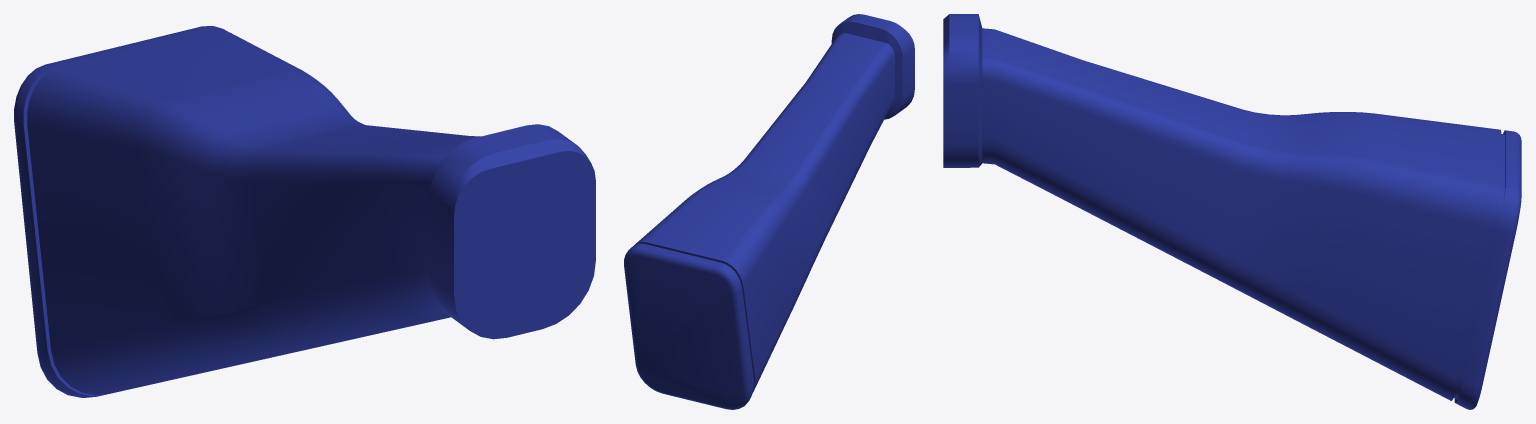
File: part_stock_03.fbx
3 renders of one model, left to right at view 1: azimuth 30°, elevation 25°; view 2: azimuth 150°, elevation 25°; view 3: azimuth 270°, elevation 25°, orthographic. The views are drawn at different scales.
Visible parts, largest first — view 1: part_stock_03; view 2: part_stock_03; view 3: part_stock_03.
Part boxes in pixels (x1,y1,x2,y2): part_stock_03: (14,26,595,397); part_stock_03: (624,14,914,409); part_stock_03: (943,14,1521,409).
Size of the model in its own units: 9.72 by 20.24 by 29.66.
